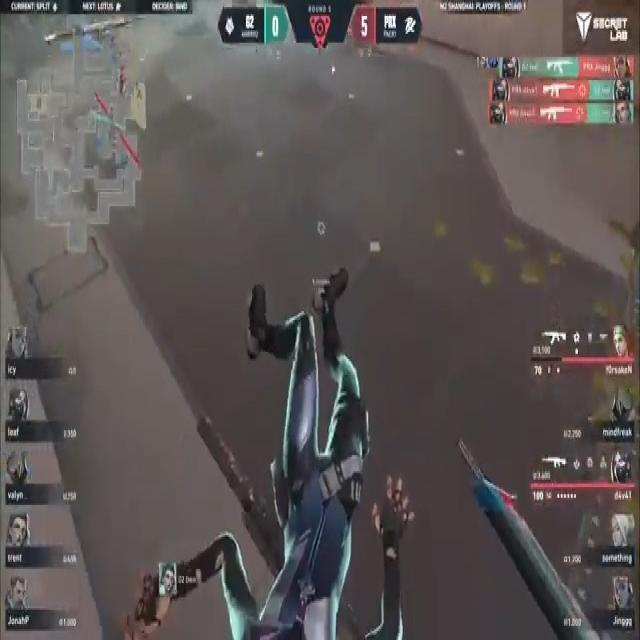gun: (447, 425, 609, 640)
